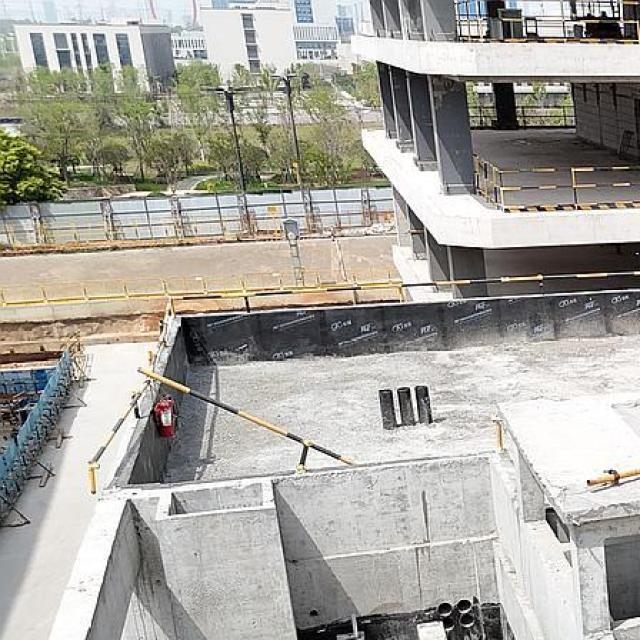edge_guardrail: (73, 270, 640, 497), (136, 366, 354, 473), (471, 150, 640, 213), (453, 0, 640, 44), (515, 104, 575, 126), (467, 104, 497, 126), (492, 418, 504, 451)
